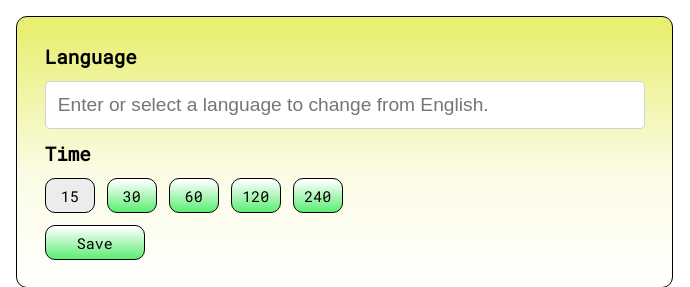
Scenario: Settings › displays dropdown for matches
(page scrolled)
Click the field with test id "langInputField". click: point(345, 105)
box: [45, 81, 645, 129]
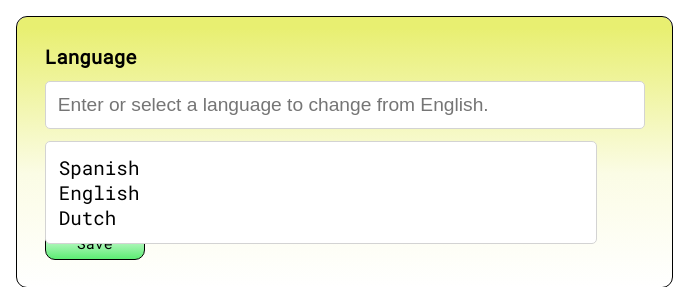
Type keys "S"
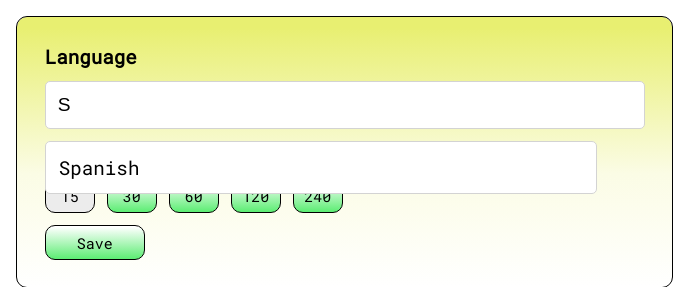
Check: the list item "Dutch" is gone
